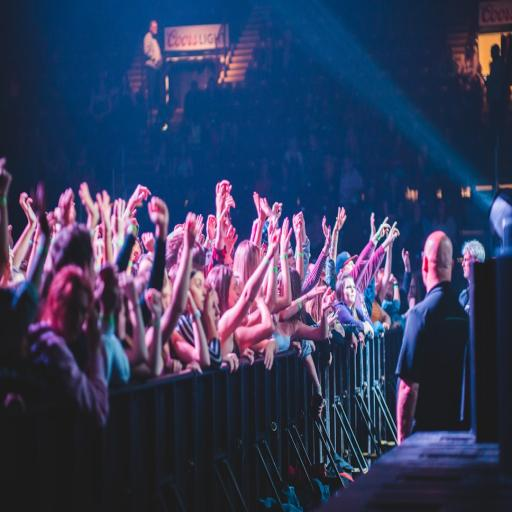face: (194, 273, 208, 312), (210, 298, 221, 330), (344, 279, 356, 305)
